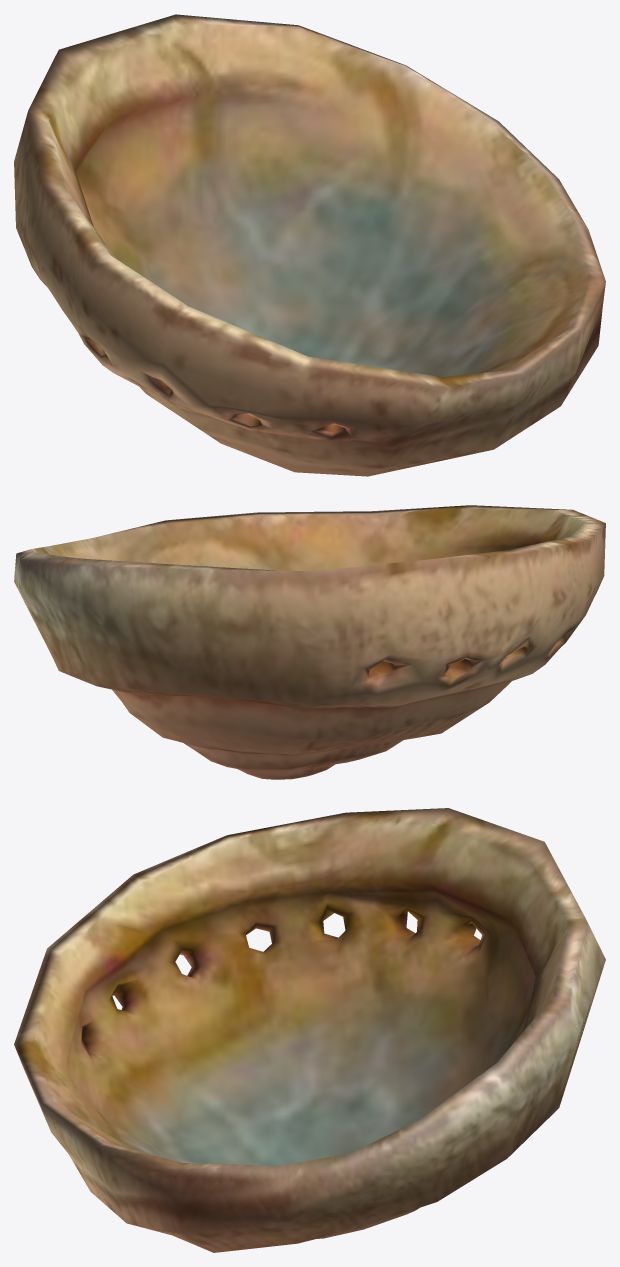
The model's file is seashell8_edit_for_FBX.fbx.
3 renders of one model, top to bottom at view 1: azimuth 30°, elevation 25°; view 2: azimuth 150°, elevation 25°; view 3: azimuth 270°, elevation 25°, orthographic. The views are drawn at different scales.
Parts seen in each view (by area): view 1: seashell8; view 2: seashell8; view 3: seashell8.
Boxes of the visible parts, left/top/right/bottom form: seashell8: left=14, top=14, right=605, bottom=476; seashell8: left=14, top=505, right=605, bottom=779; seashell8: left=14, top=808, right=605, bottom=1252.
Bounding box in the file's own units: 583 × 343 × 588.
